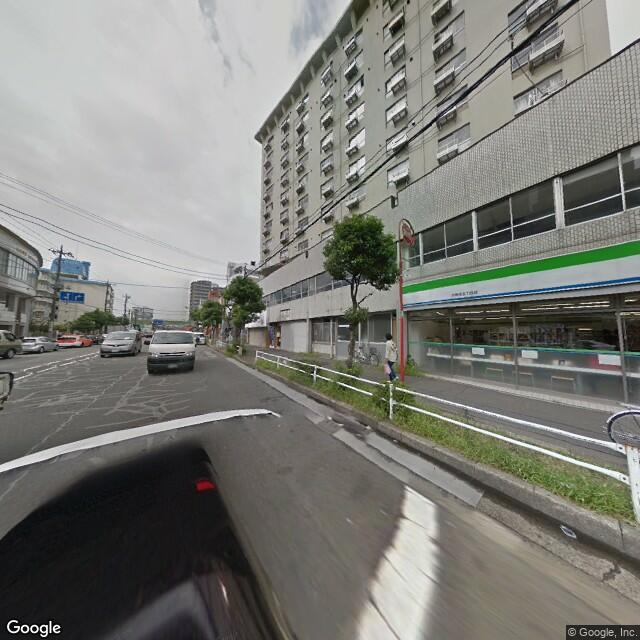family_mart: (403, 237, 639, 310)
